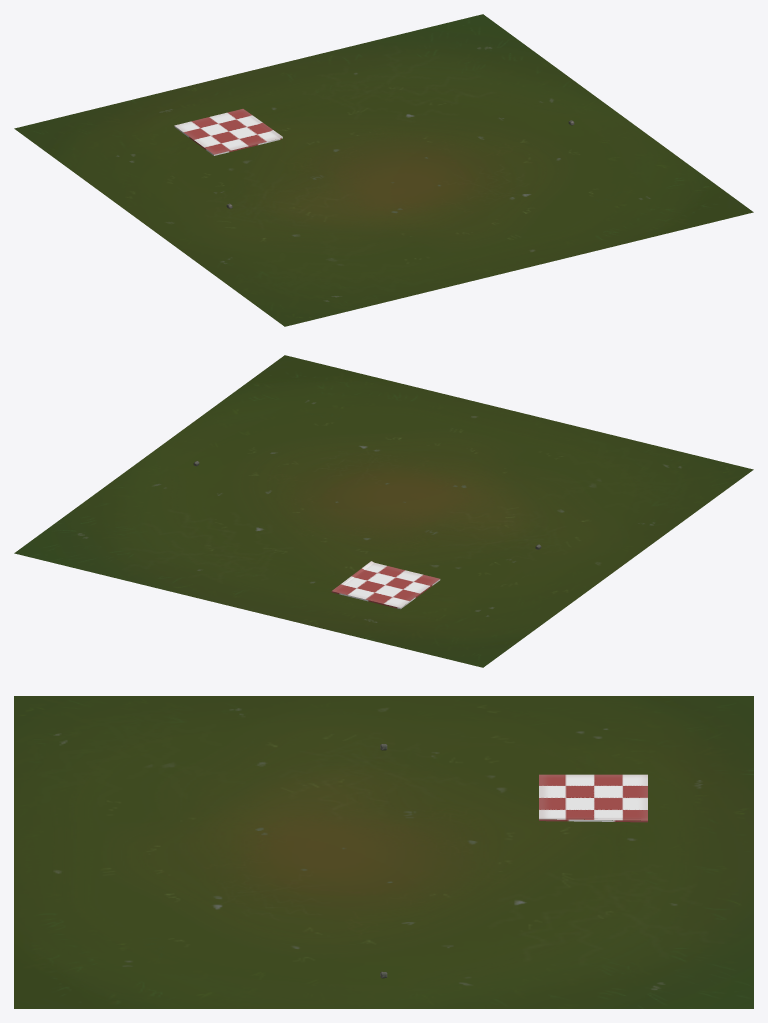
Rendered from SM_ground.fbx.
3 renders of one model, top to bottom at view 1: azimuth 30°, elevation 25°; view 2: azimuth 150°, elevation 25°; view 3: azimuth 270°, elevation 25°, orthographic. The views are drawn at different scales.
Parts seen in each view (by area): view 1: floor, picnic; view 2: floor, picnic; view 3: floor, picnic.
Part boxes in pixels (bbox=[...]): floor: bbox=[14, 14, 753, 326]; picnic: bbox=[174, 109, 282, 155]; floor: bbox=[14, 355, 753, 667]; picnic: bbox=[331, 561, 440, 609]; floor: bbox=[14, 696, 753, 1008]; picnic: bbox=[539, 774, 647, 822].
Bounding box in the file's own units: 50 × 0.4051 × 50.
